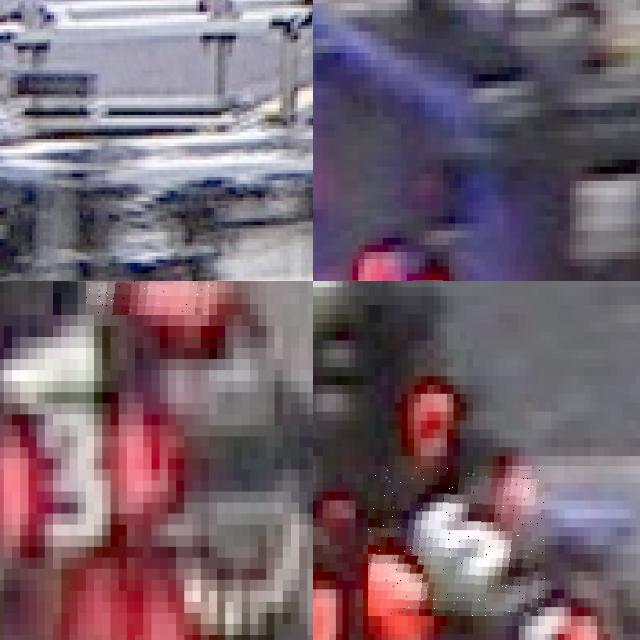R2: (331, 237, 464, 281)
R3: (0, 386, 168, 552), (85, 281, 217, 314)
R5: (368, 465, 545, 616), (486, 607, 603, 640)
